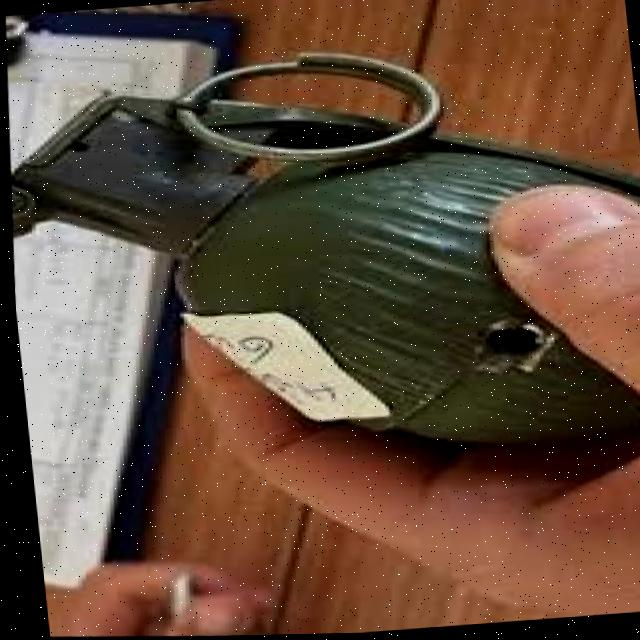grenade: (6, 12, 640, 499)
